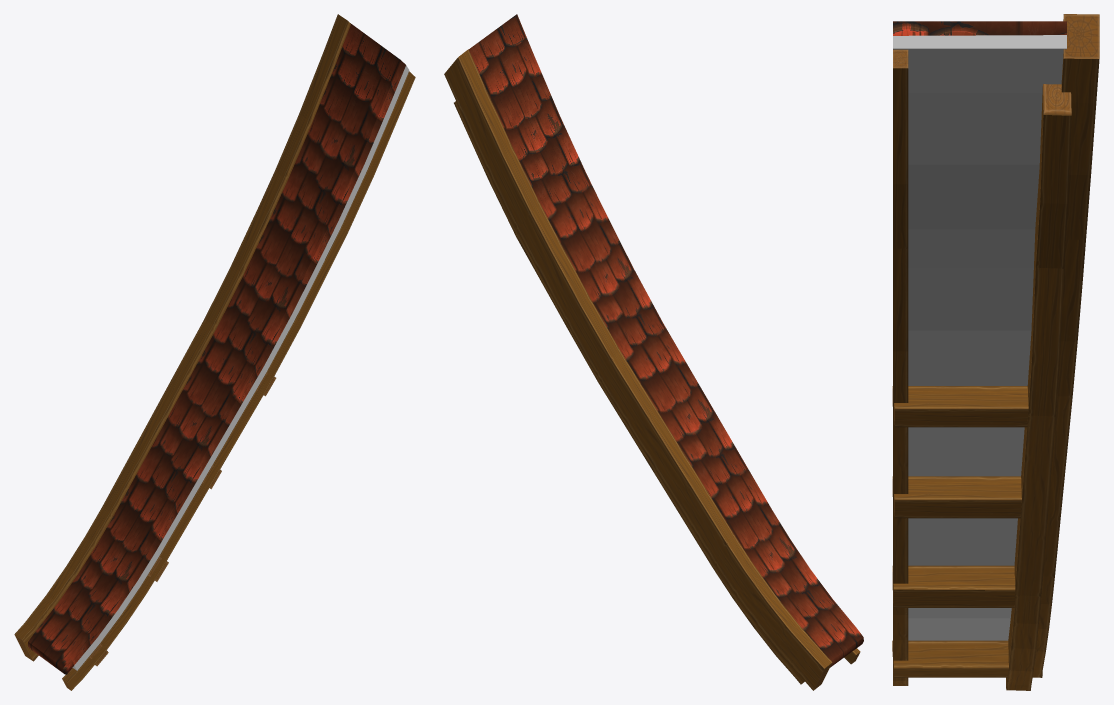
Rendered from SM_House_Roof_02_End.fbx.
3 renders of one model, left to right at view 1: azimuth 30°, elevation 25°; view 2: azimuth 150°, elevation 25°; view 3: azimuth 270°, elevation 25°, orthographic. The views are drawn at different scales.
Parts seen in each view (by area): view 1: SM_House_Roof_02_End; view 2: SM_House_Roof_02_End; view 3: SM_House_Roof_02_End.
Part boxes in pixels (x1=…): SM_House_Roof_02_End: x1=14, y1=14, x2=415, y2=690; SM_House_Roof_02_End: x1=444, y1=14, x2=863, y2=690; SM_House_Roof_02_End: x1=892, y1=14, x2=1099, y2=690.
Bounding box in the file's own units: 6.55 × 9.69 × 1.93.
